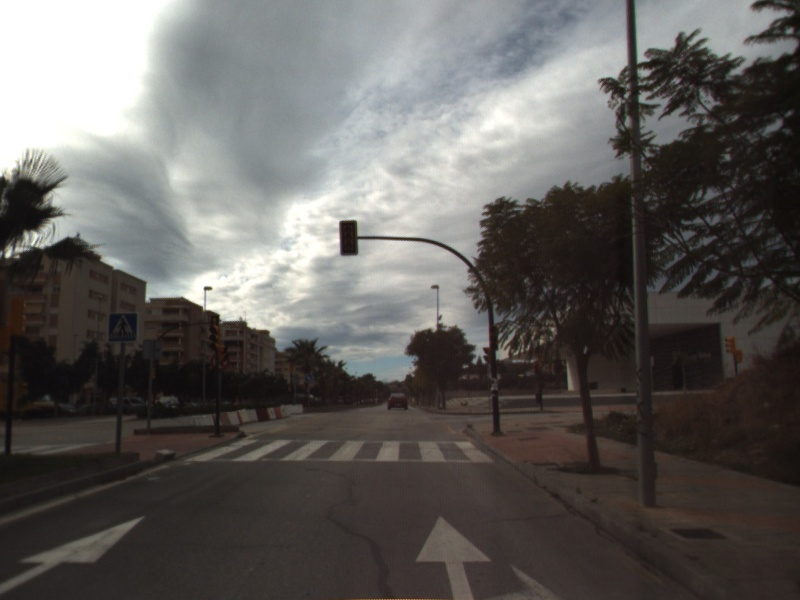STRAIGHT: (1, 513, 148, 596)
STRAIGHT_RIGHT: (413, 513, 564, 600)
